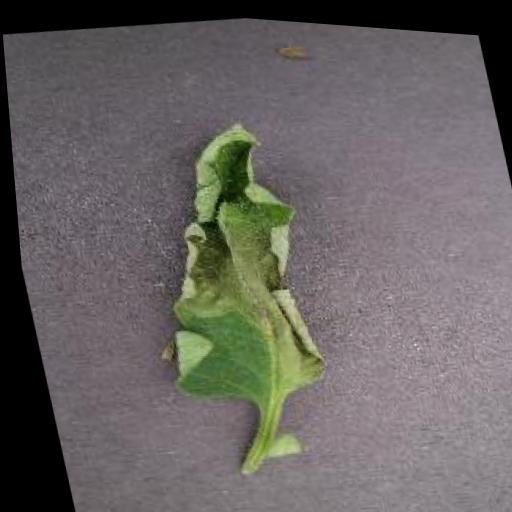Late Blight: (106, 102, 336, 416)
